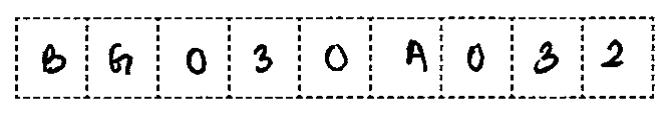0: (456, 38, 501, 77), (317, 41, 355, 76), (179, 41, 213, 79)
2: (595, 33, 632, 75)
3: (528, 35, 564, 79), (247, 39, 280, 77)
A: (398, 35, 432, 76)
B: (37, 41, 74, 80)
G: (103, 36, 141, 80)
